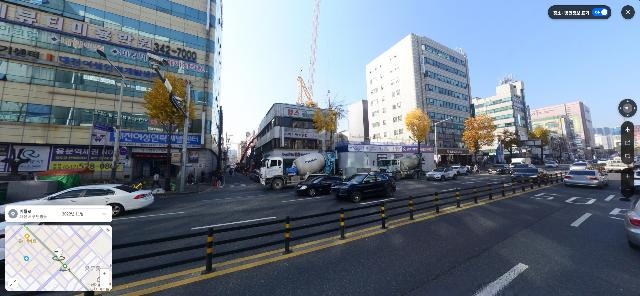ginkgo: (143, 70, 198, 184), (307, 96, 349, 154), (404, 108, 432, 156)
other: (462, 115, 497, 171), (527, 126, 552, 165), (499, 128, 524, 162)
